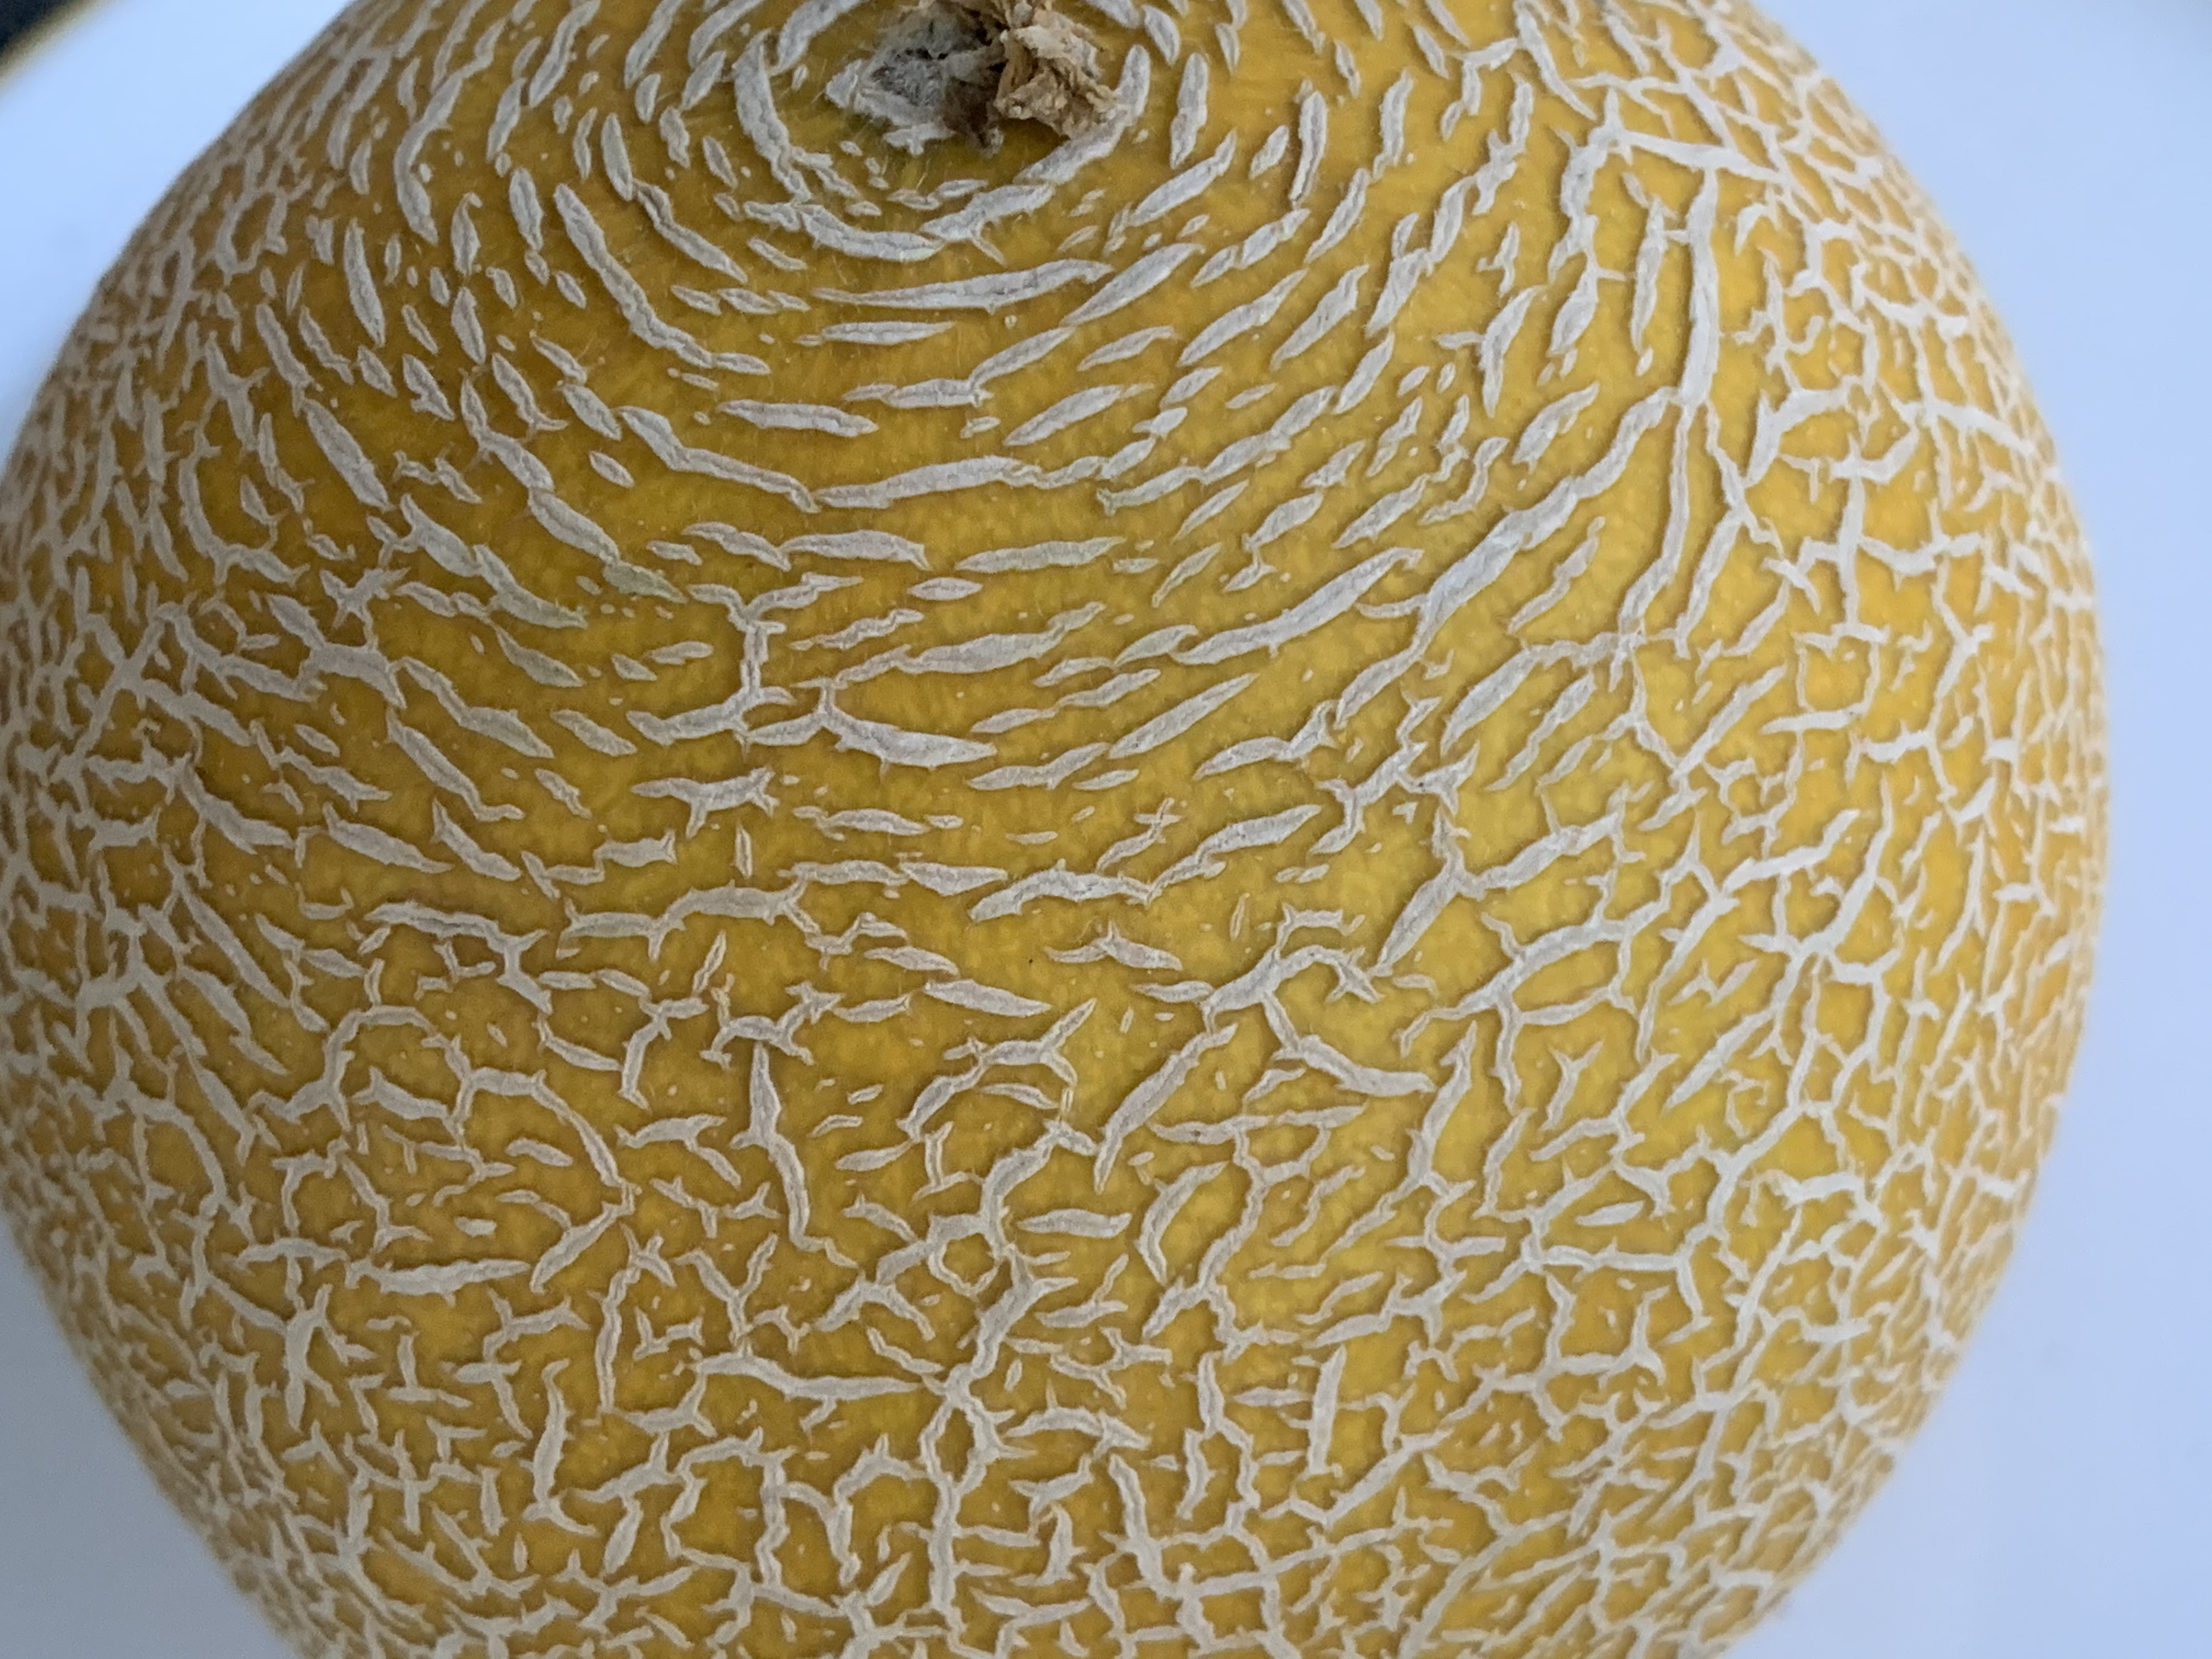galia melon: (21, 30, 2125, 1659)
